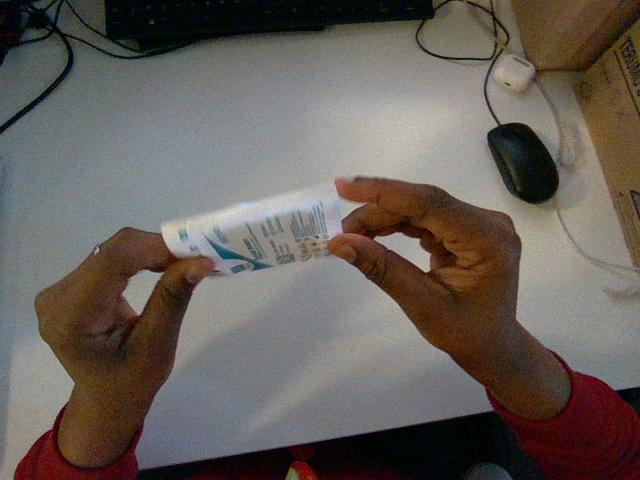gauze: (161, 185, 341, 275)
